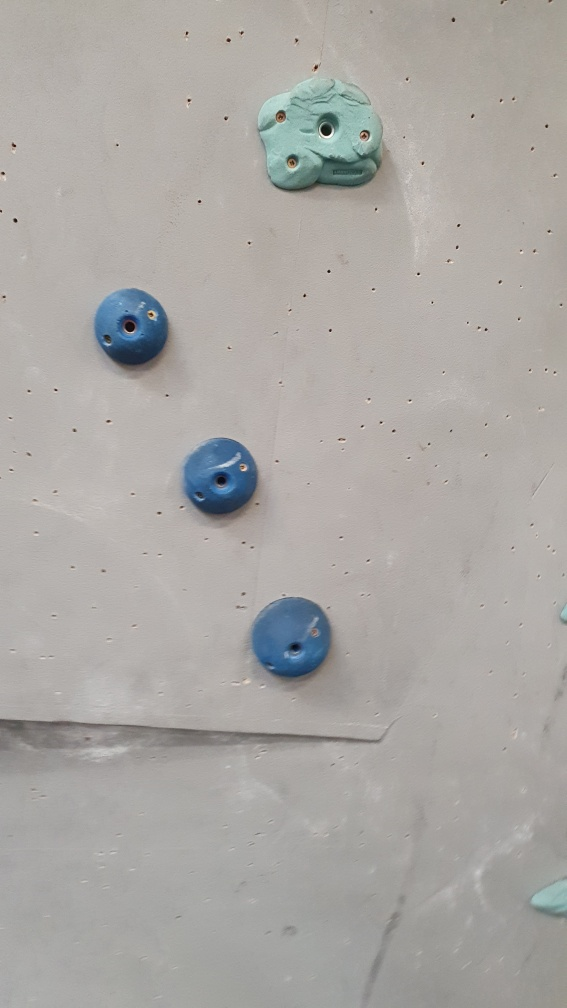Sloper: (242, 592, 340, 685), (87, 282, 179, 373), (176, 432, 266, 515)
